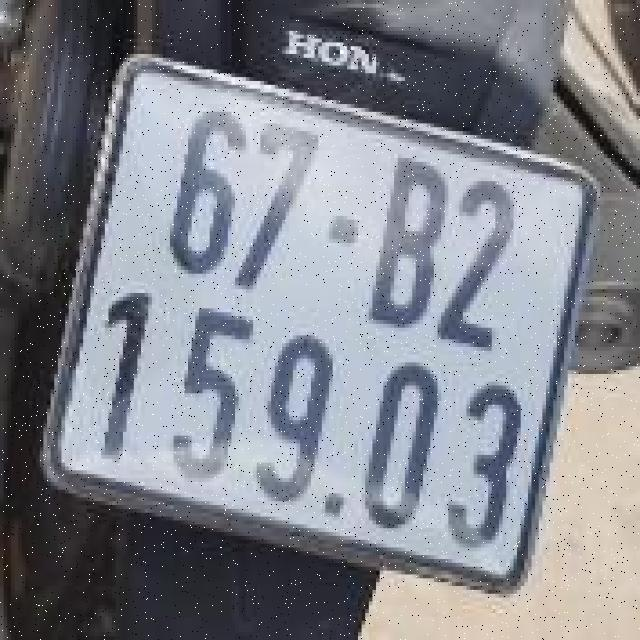0: (350, 351, 448, 540)
1: (81, 280, 162, 473)
2: (434, 172, 531, 362)
3: (437, 374, 530, 560)
5: (161, 298, 263, 494)
6: (157, 99, 257, 291)
7: (219, 114, 324, 306)
9: (248, 317, 342, 517)
B: (360, 150, 455, 343)
